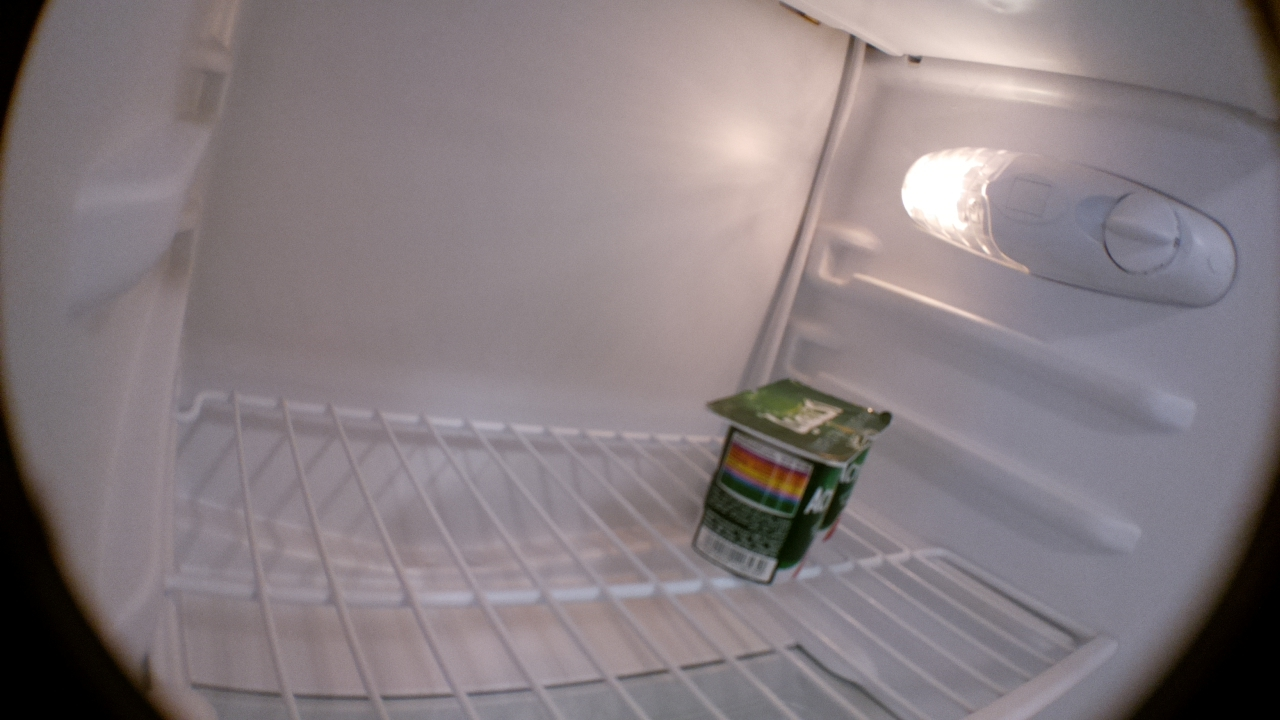yoghurt: (689, 388, 861, 589), (819, 396, 892, 551)
